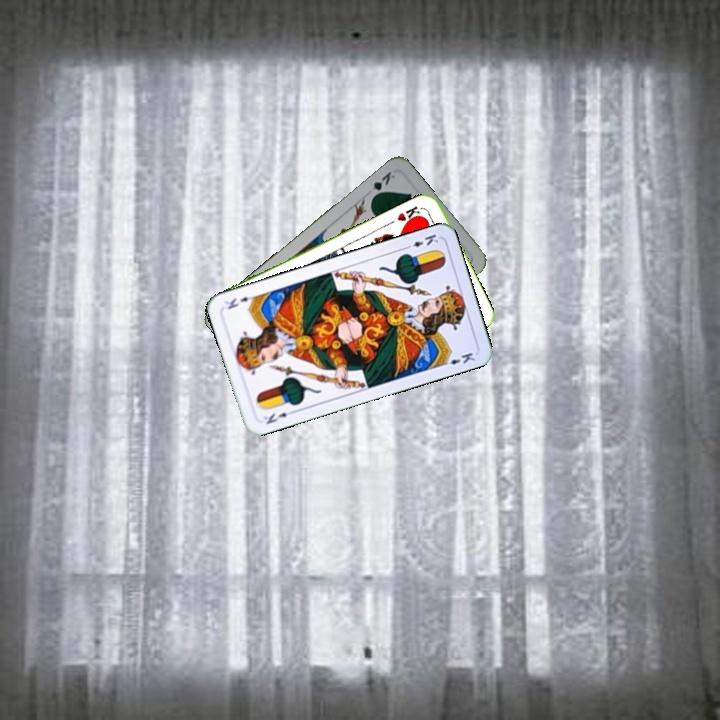EK: (401, 230, 441, 252), (259, 406, 297, 427)
GK: (366, 167, 398, 201)
HK: (393, 202, 424, 227)
